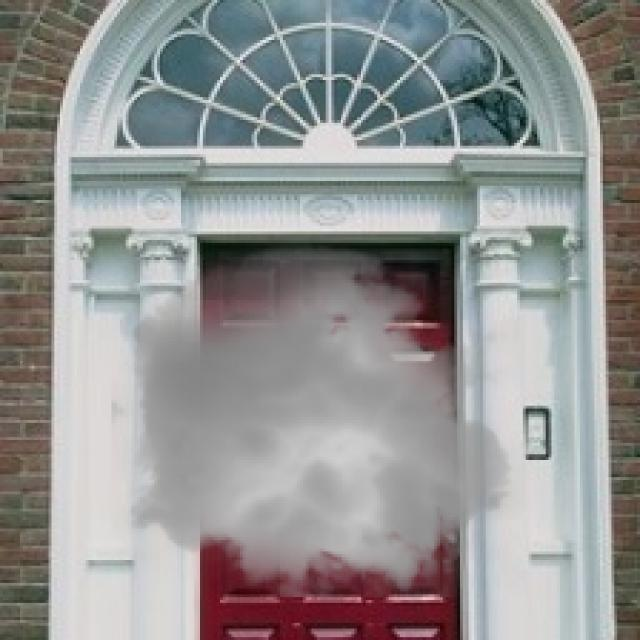smoke: (111, 232, 526, 614)
